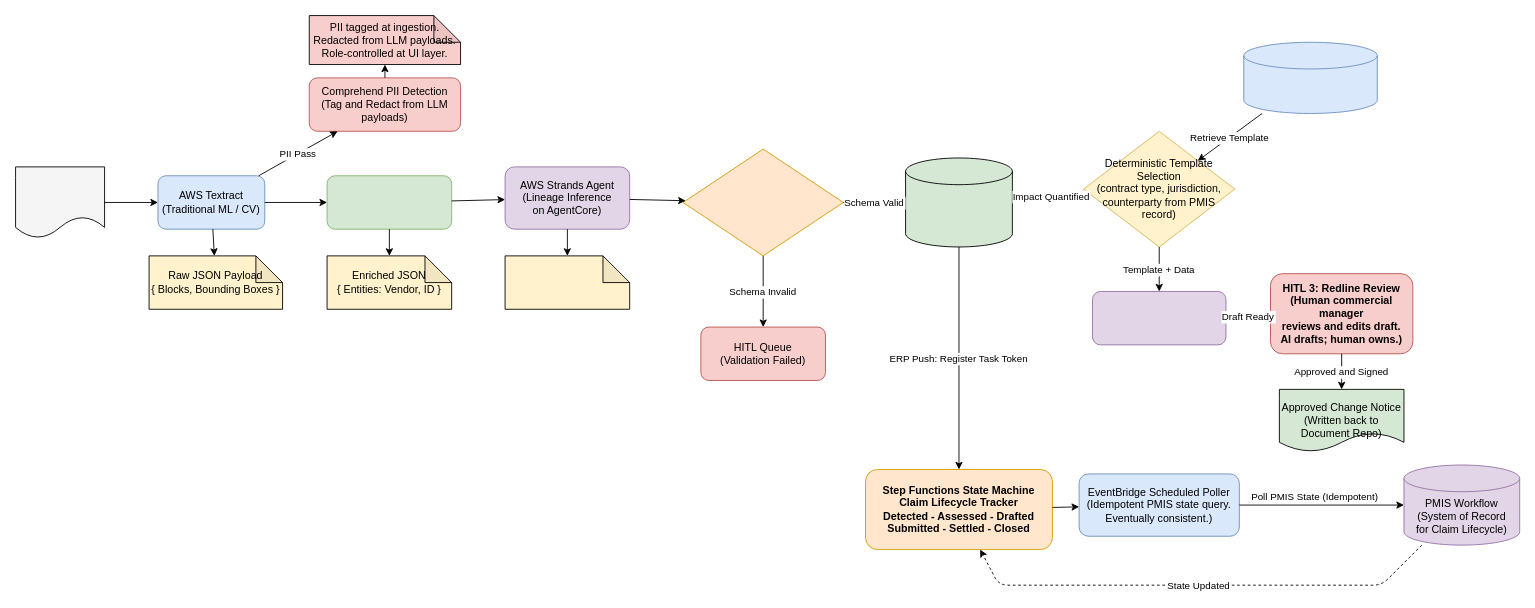
This 1535x608 diagram has some shape labels left out. The centre of each missing label's shape, as x and y in pixels:
"AgentCore Code Interpreter and Schema Validator" belongs at (x=762, y=202).
"Amazon Comprehend (Traditional NLP NER)" belongs at (x=389, y=202).
"Change Notice Draft Agent (AWS Strands)" belongs at (x=1159, y=318).
"ERP Schema Payload { Strict Schema / Types }" belongs at (x=958, y=202).
"Mutated JSON { with Lineage }" belongs at (x=567, y=282).
"Template Repository (S3 / ProjectWise / SharePoint)" belongs at (x=1310, y=77).
"Unstructured PDF (Binary Data)" belongs at (x=60, y=202).
